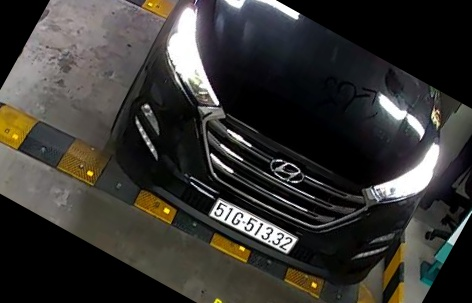plate: (207, 196, 301, 257)
